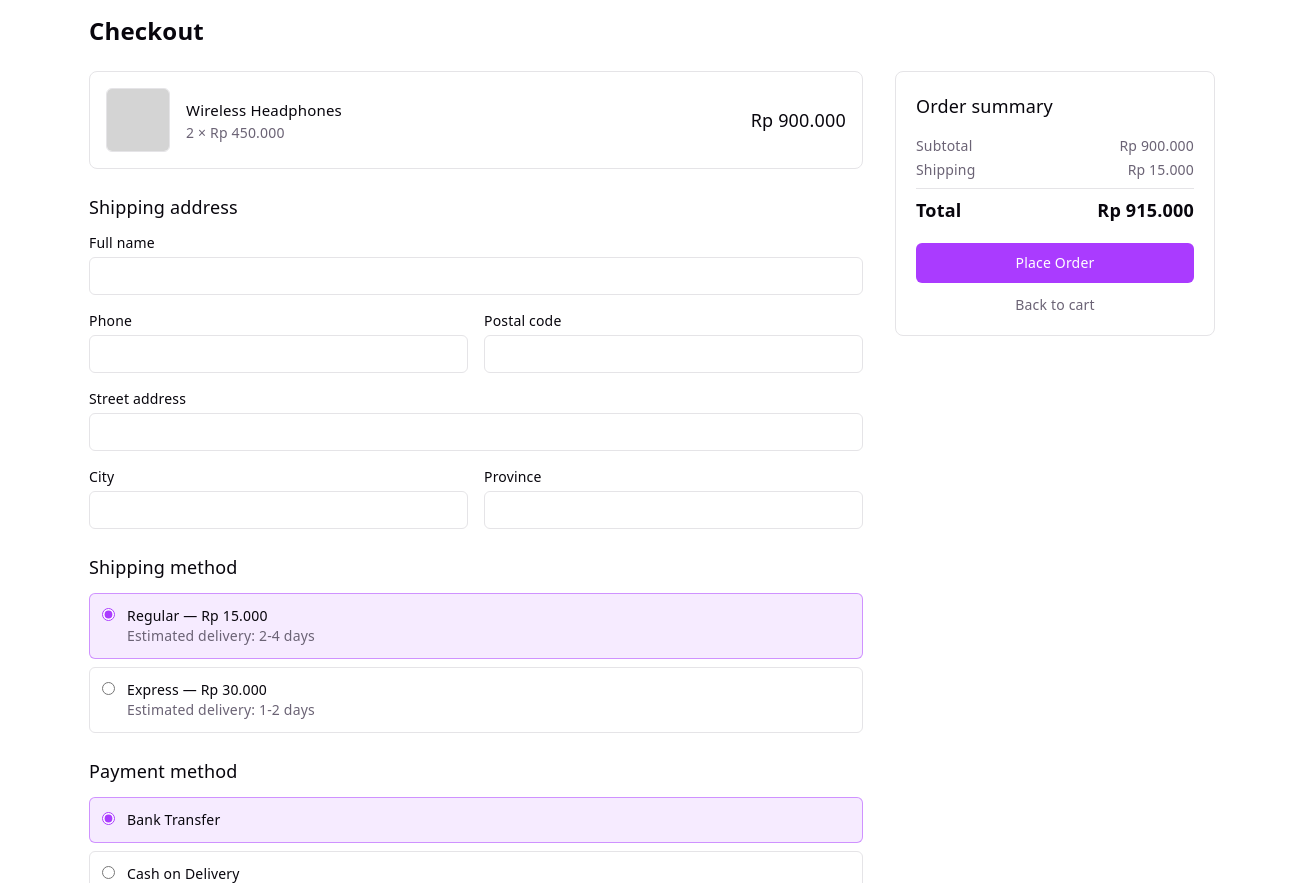
Scenario: CheckoutPage › shows an error and stays on the page when checkout fails
Expected: the text "Wireless Headphones" is shown, x1=186 y1=100 x2=342 y2=120
In the field labelled "Full name": (476, 276) x1=89 y1=257 x2=863 y2=295, type "Demo Buyer"
In the field labelled "Phone": (278, 354) x1=89 y1=335 x2=468 y2=373, type "08123456789"
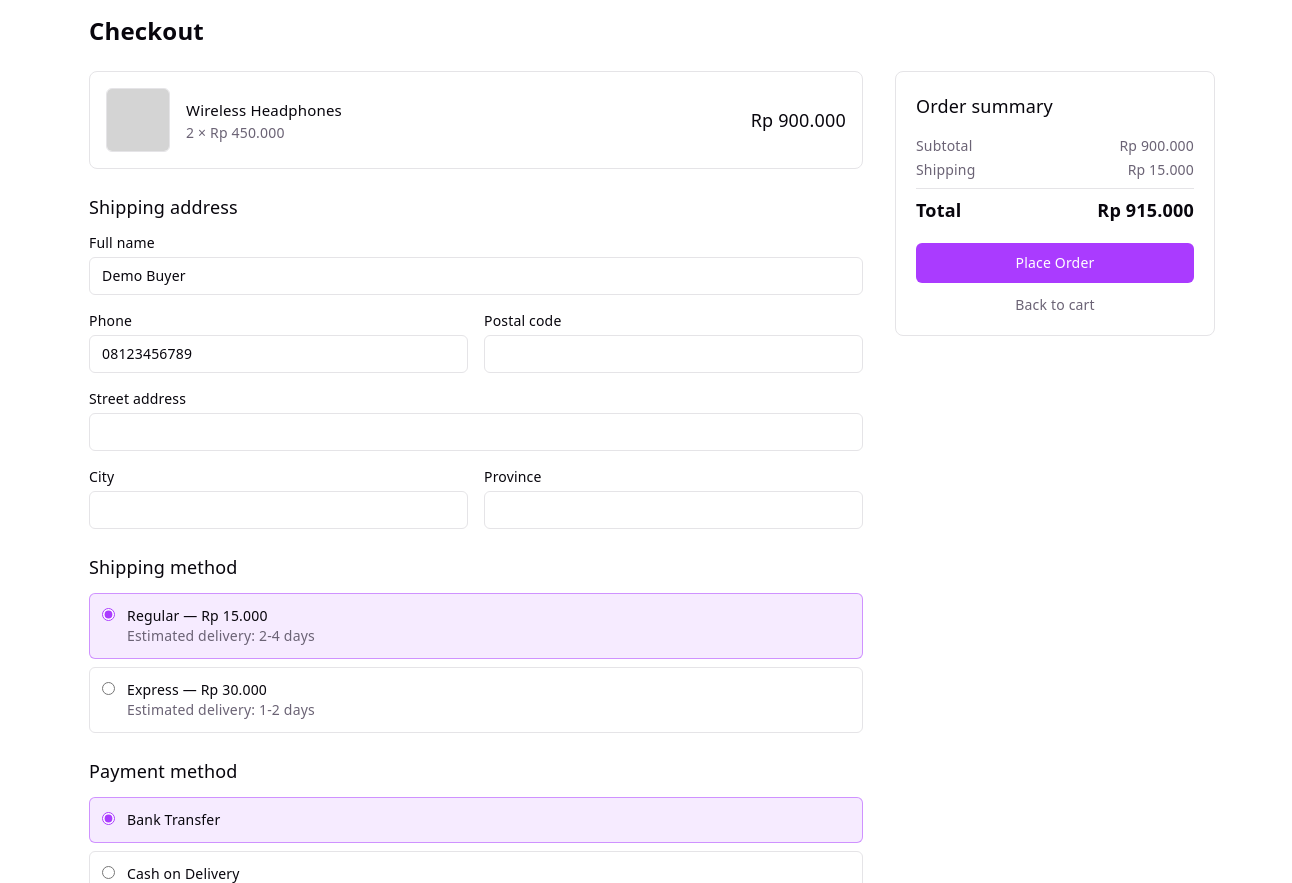
In the field labelled "Street address": (476, 432) x1=89 y1=413 x2=863 y2=451, type "Jl. Sudirman No. 1"
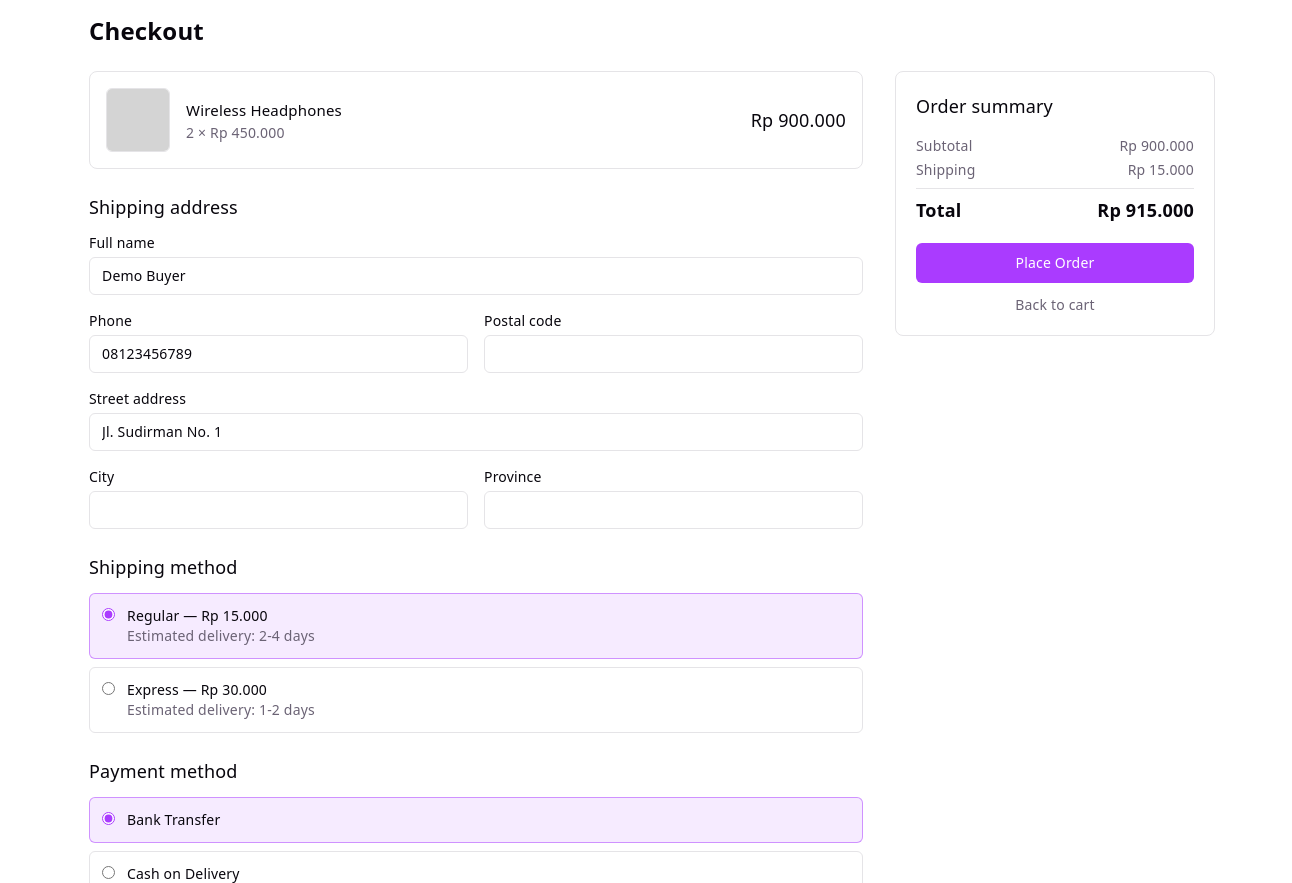
In the field labelled "City": (278, 510) x1=89 y1=491 x2=468 y2=529, type "Jakarta"
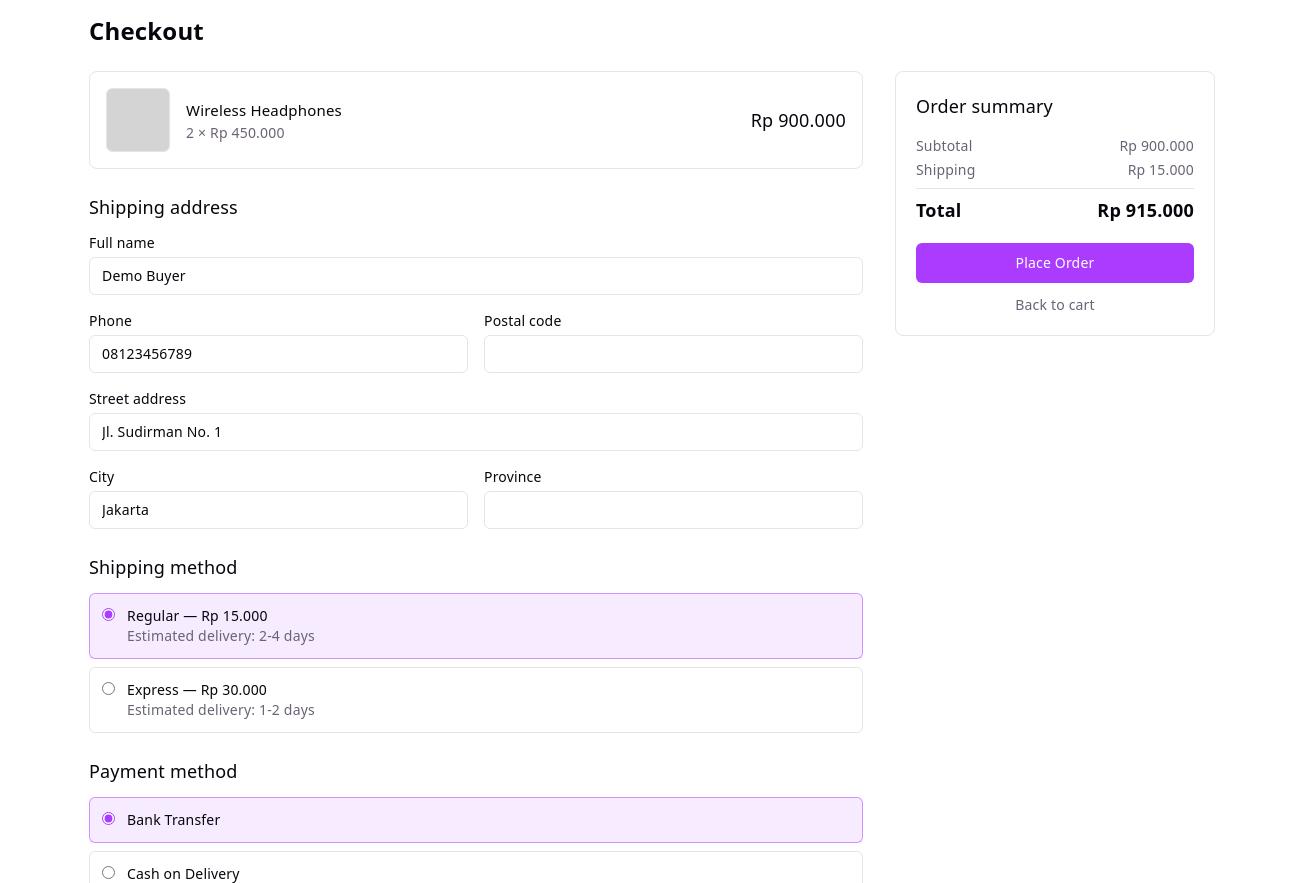
In the field labelled "Province": (674, 510) x1=484 y1=491 x2=863 y2=529, type "DKI Jakarta"
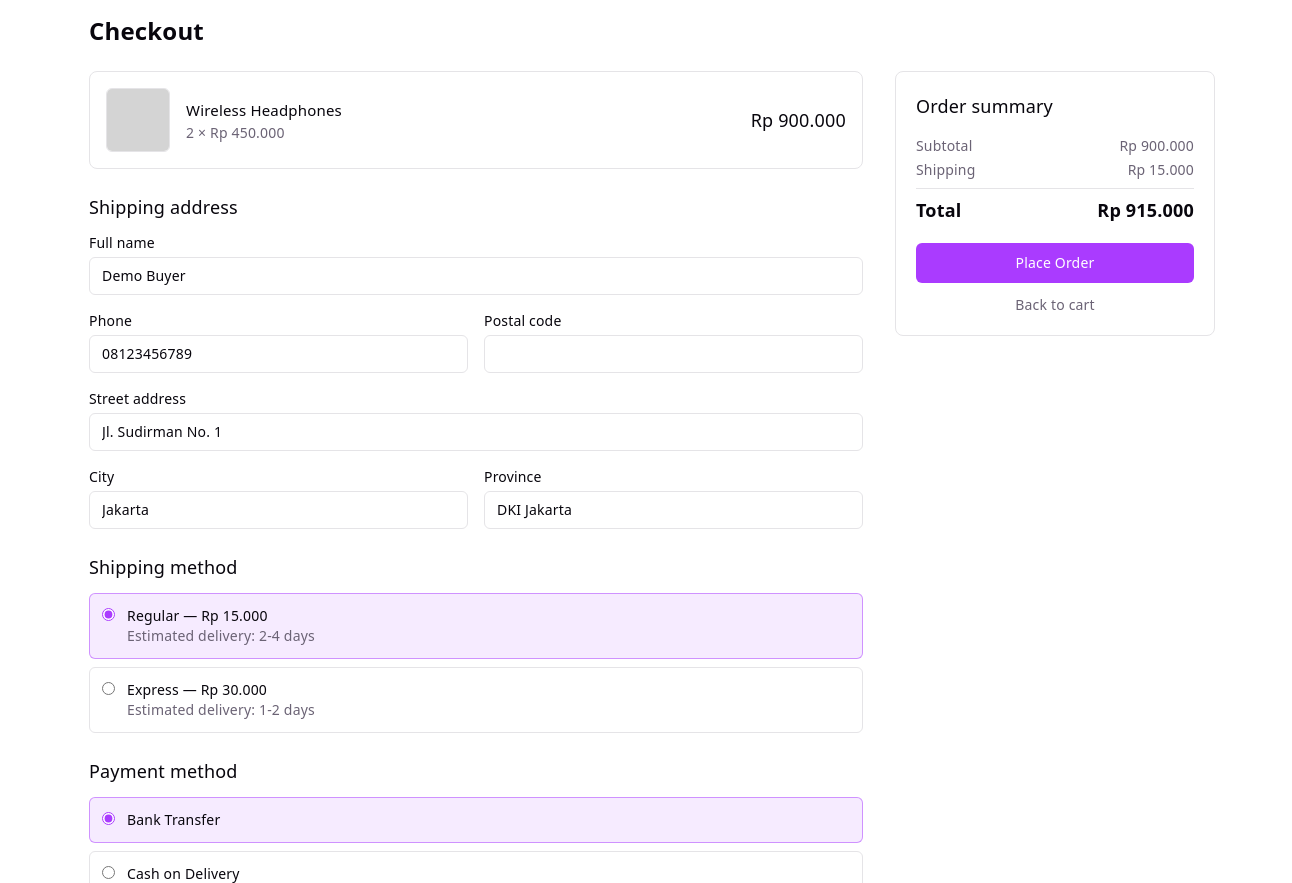
In the field labelled "Postal code": (674, 354) x1=484 y1=335 x2=863 y2=373, type "12190"
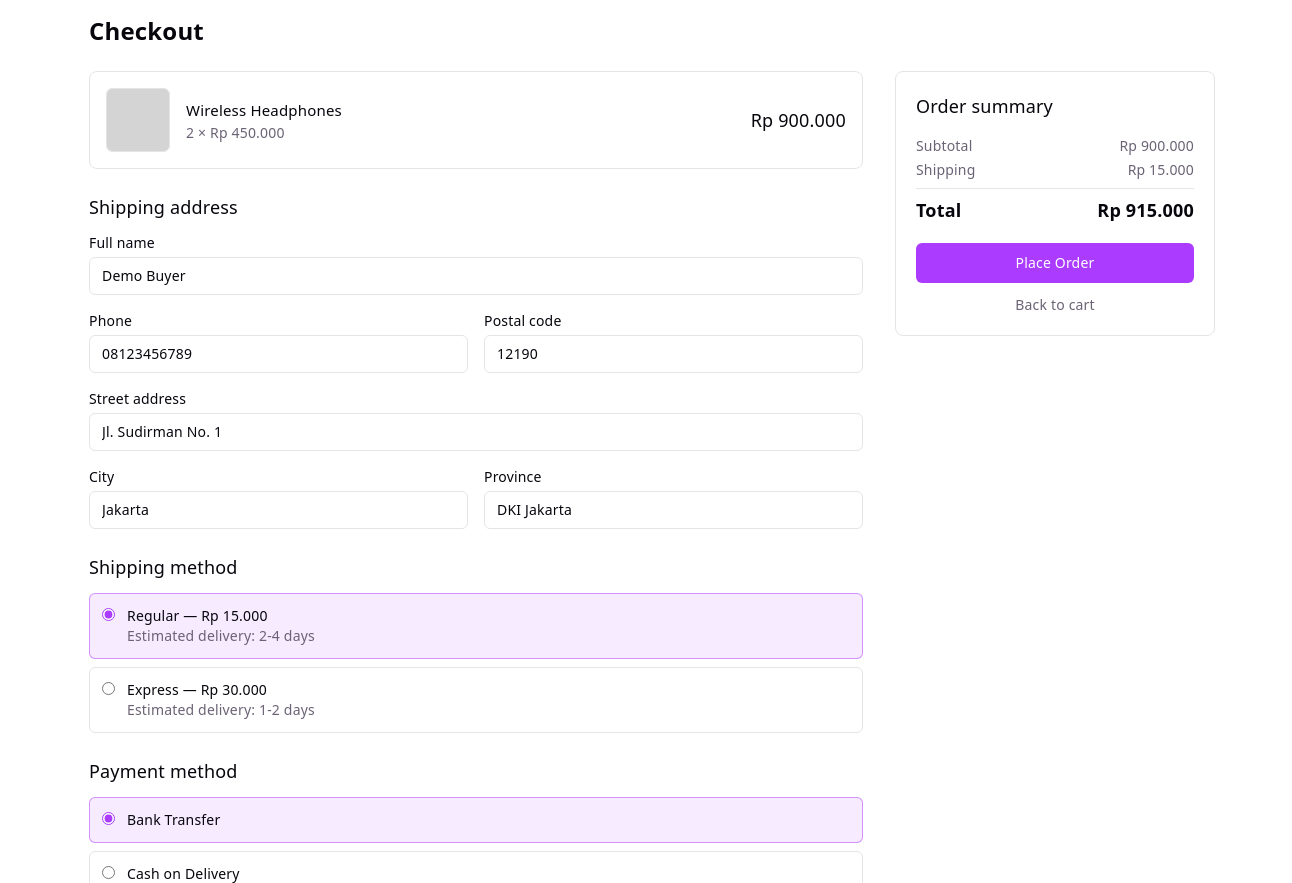
Click the button "Place Order": (1055, 263) x1=916 y1=243 x2=1194 y2=283
(page scrolled)
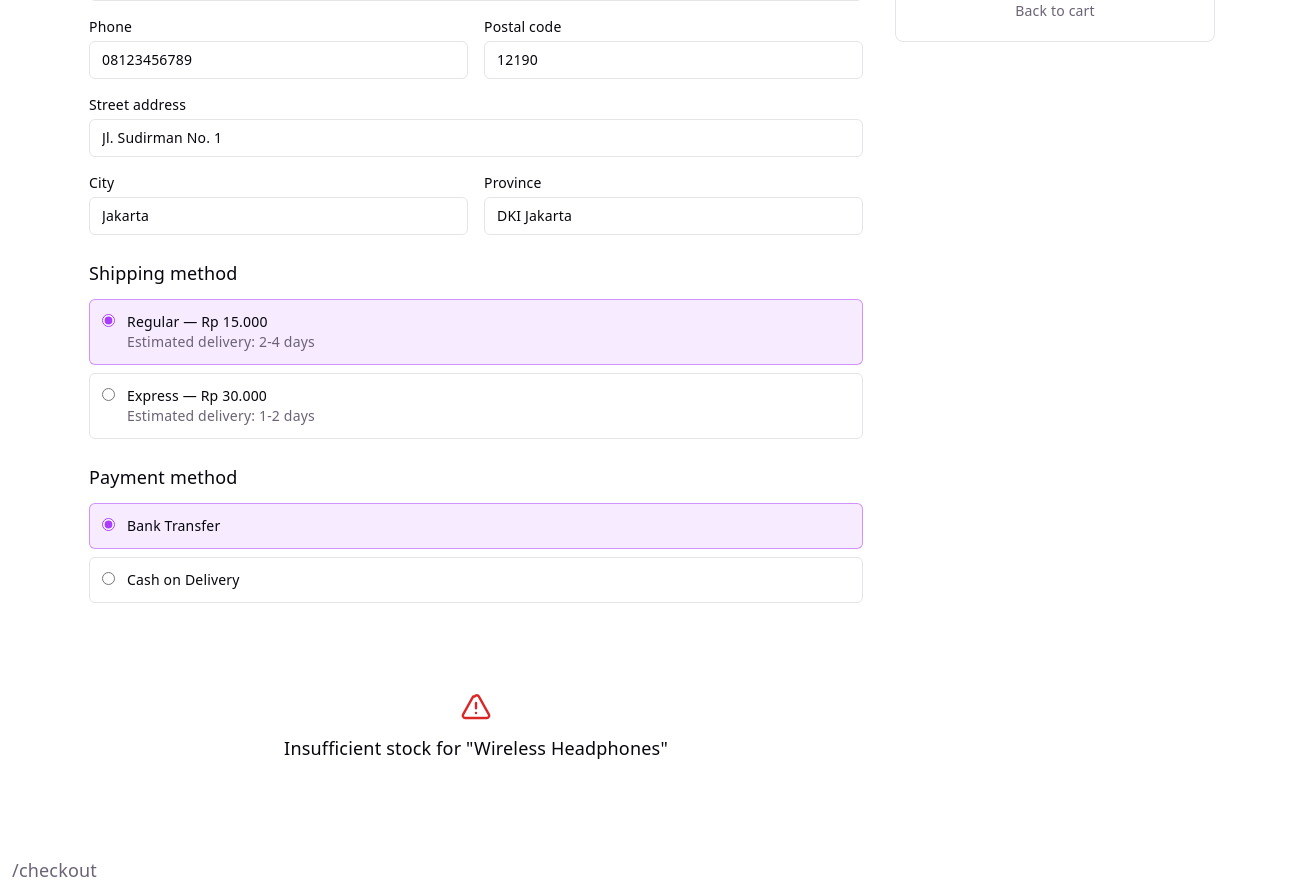
Expected: the text with test id "location" reads "/checkout", x1=12 y1=858 x2=97 y2=882
Now the text "Insufficient stock for \"Wireless Headphones\"" is shown, box x1=284 y1=735 x2=668 y2=761
